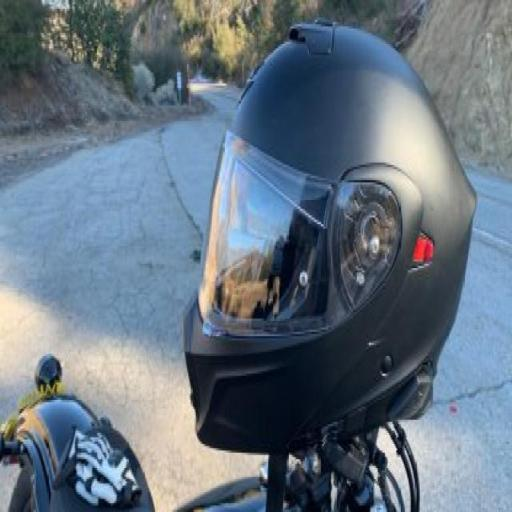Helmet: (172, 22, 458, 448)
